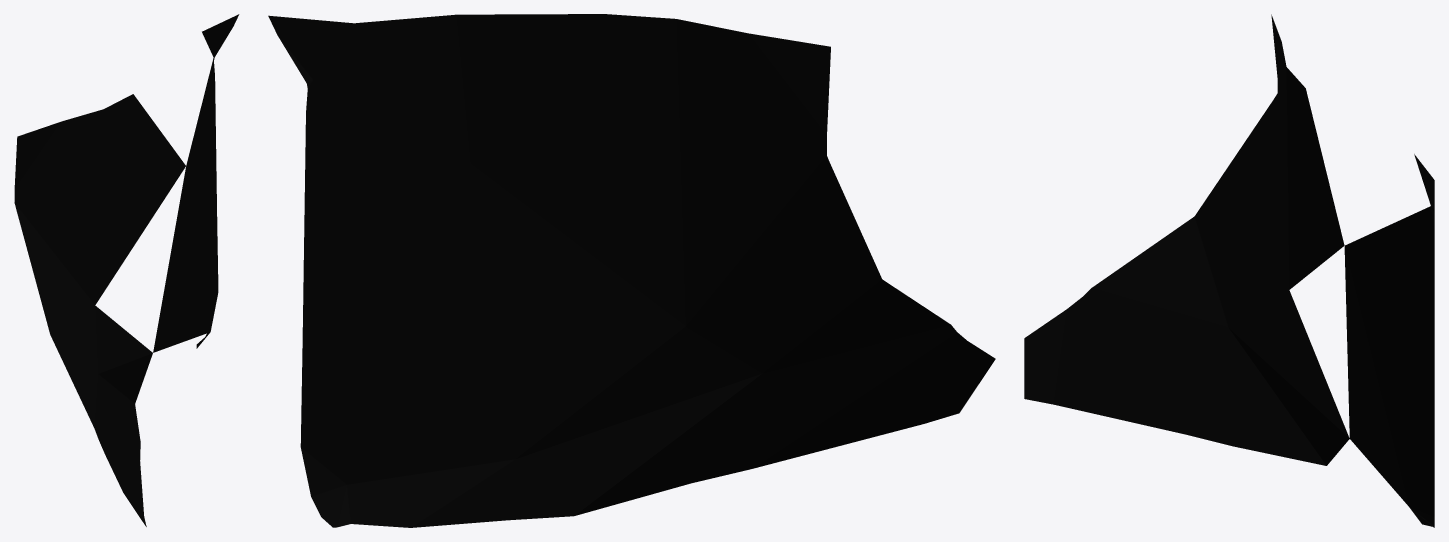
The picture shows the model from 3 angles, left to right: view 1: azimuth 30°, elevation 25°; view 2: azimuth 150°, elevation 25°; view 3: azimuth 270°, elevation 25°; orthographic projection. The views are drawn at different scales.
Bounding box in the file's own units: 5.65 × 5.9 × 5.9.
Materials: 3 (3 with a texture image).
